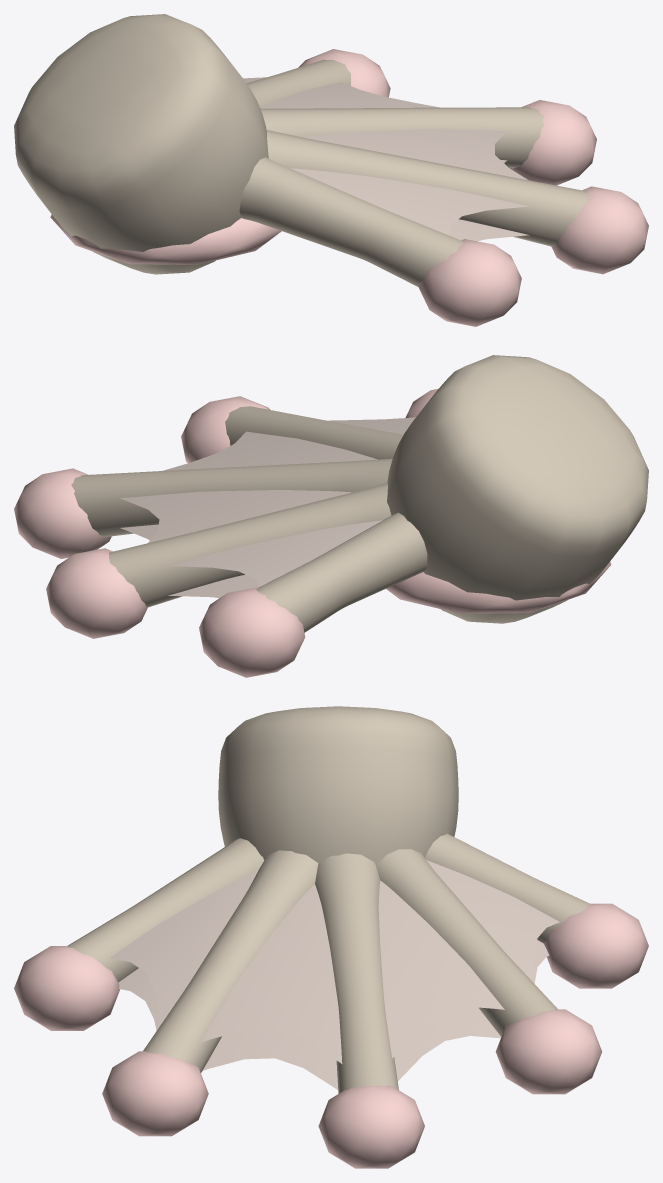
Rendered from creature.webbedfoot.glb.
3 views of the same model, one above another, from view 1: azimuth 30°, elevation 25°; view 2: azimuth 150°, elevation 25°; view 3: azimuth 270°, elevation 25° (orthographic). The views are drawn at different scales.
Parts seen in each view (by area): view 1: Skin, Pad, Fin; view 2: Skin, Pad, Fin; view 3: Skin, Fin, Pad.
Boxes of the visible parts, x1,y1,x2,y2 form: Skin: (14, 14, 588, 286); Pad: (50, 49, 648, 326); Fin: (243, 77, 529, 241); Skin: (71, 355, 648, 632); Pad: (14, 389, 611, 677); Fin: (120, 417, 415, 598); Skin: (67, 706, 591, 1093); Fin: (110, 860, 559, 1089); Pad: (14, 903, 648, 1168).
Bounding box in the file's own units: 0.5016 × 0.219 × 0.4763.
